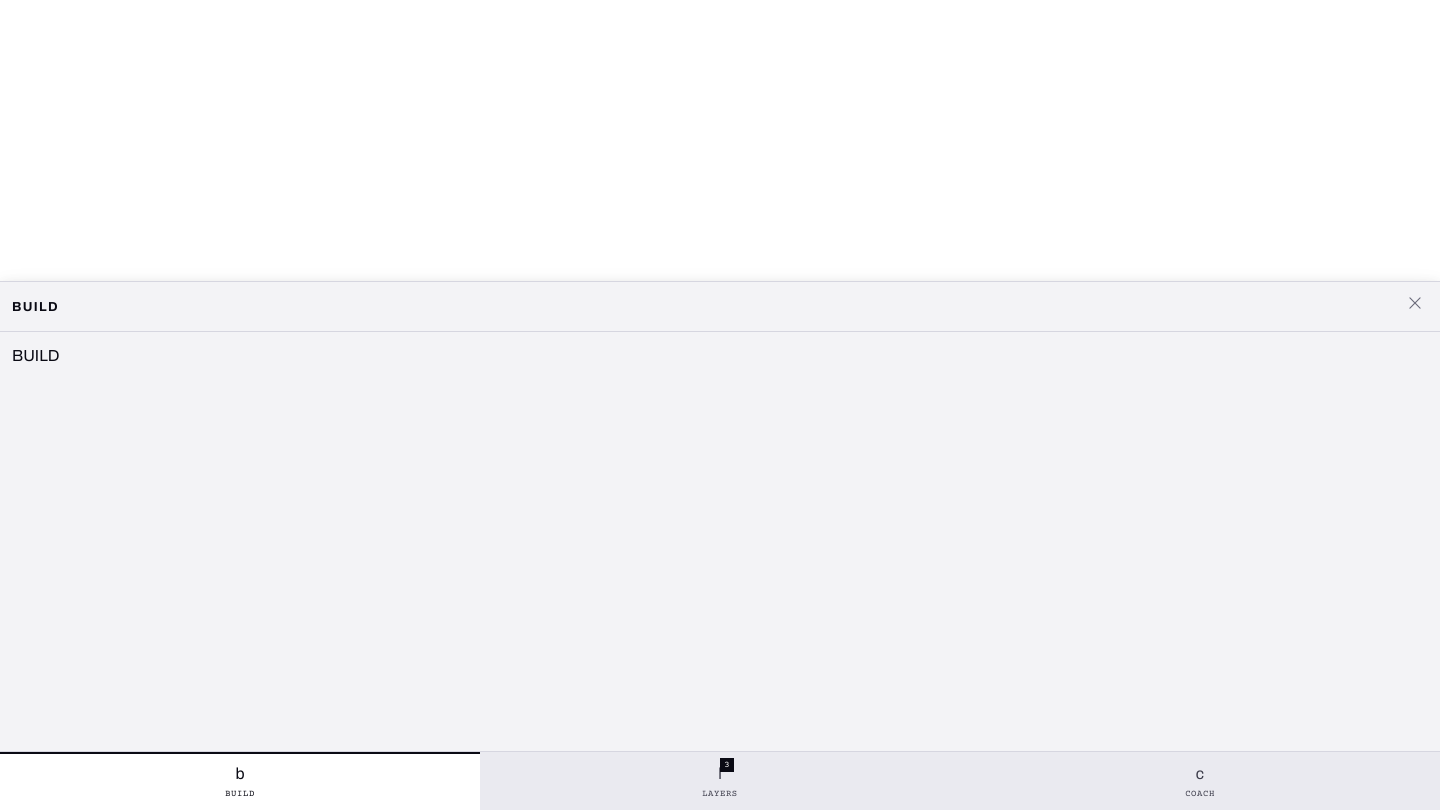
Test: MobileControlSheet › switches directly between tabs
The image size is (1440, 810).
Click the button with test id "rb2-mobile-tab-layers": click(720, 781) x1=480 y1=752 x2=960 y2=809
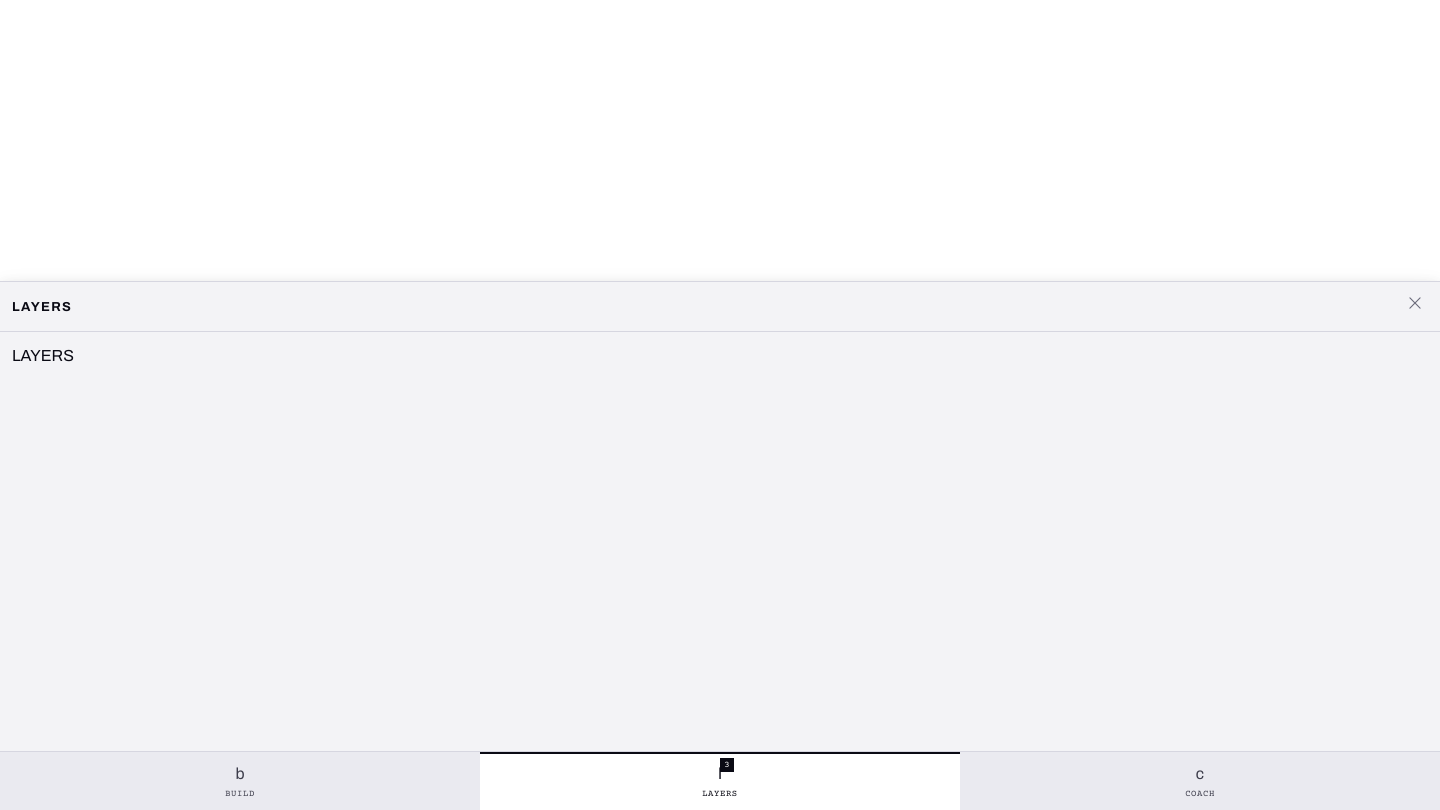
Check: the text "LAYERS" is shown, box x1=12 y1=347 x2=74 y2=364
